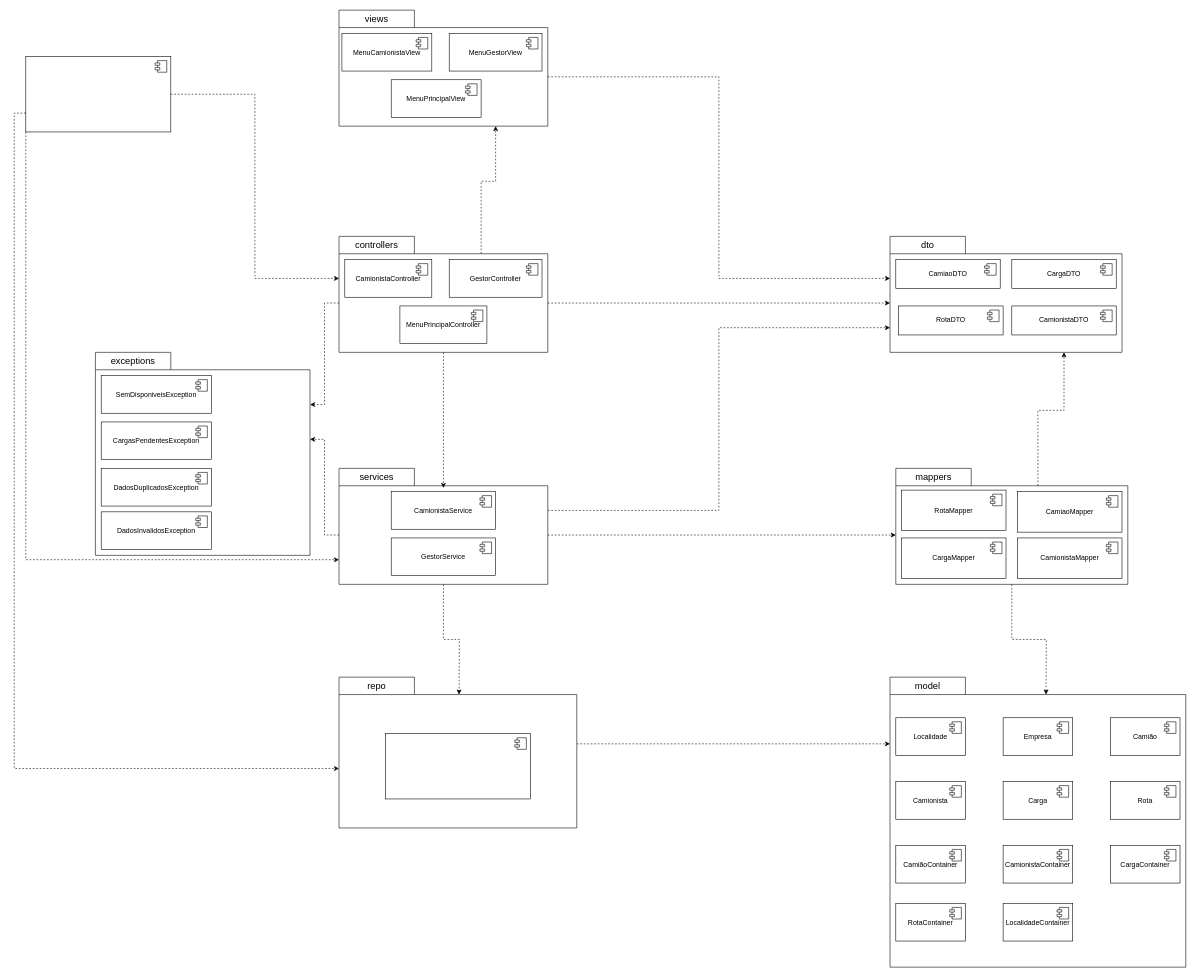
The diagram is 1196 pixels wide and 977 high, and some of its shapes have lost their labels. Here are the shapes that lost their labels. From the top down, the box of each, then its label:
(25, 56, 171, 132): main.cpp
(385, 733, 530, 799): GeneralRepository
